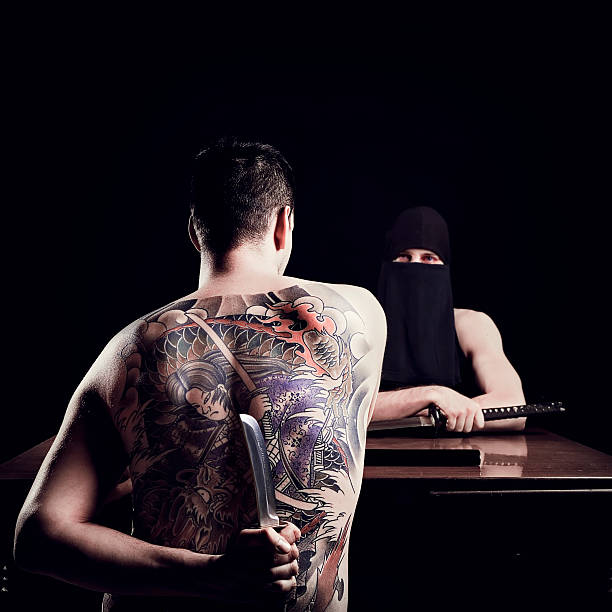knife: (363, 392, 574, 436), (234, 410, 284, 532)
